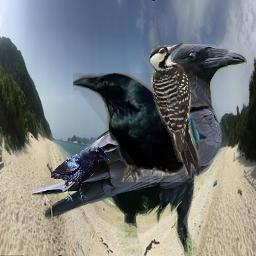Crow: (29, 44, 247, 256), (73, 73, 209, 182), (51, 146, 110, 203)
Woodpecker: (149, 42, 201, 178)
